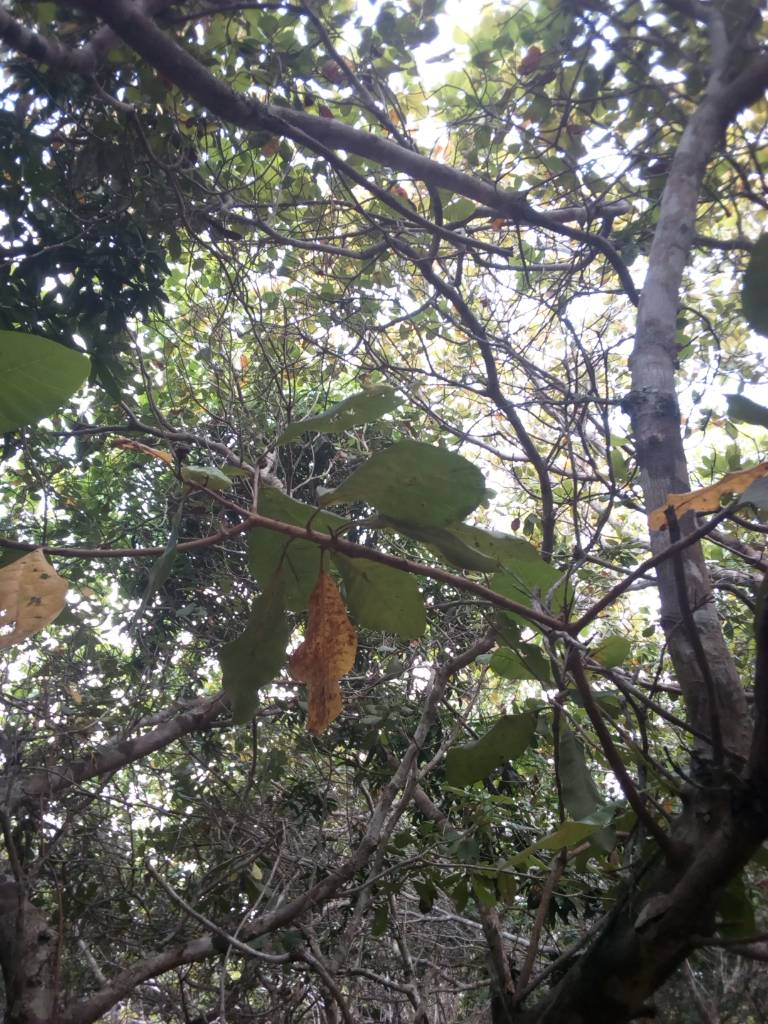Anthracnose: (294, 558, 352, 736), (1, 541, 61, 658)
